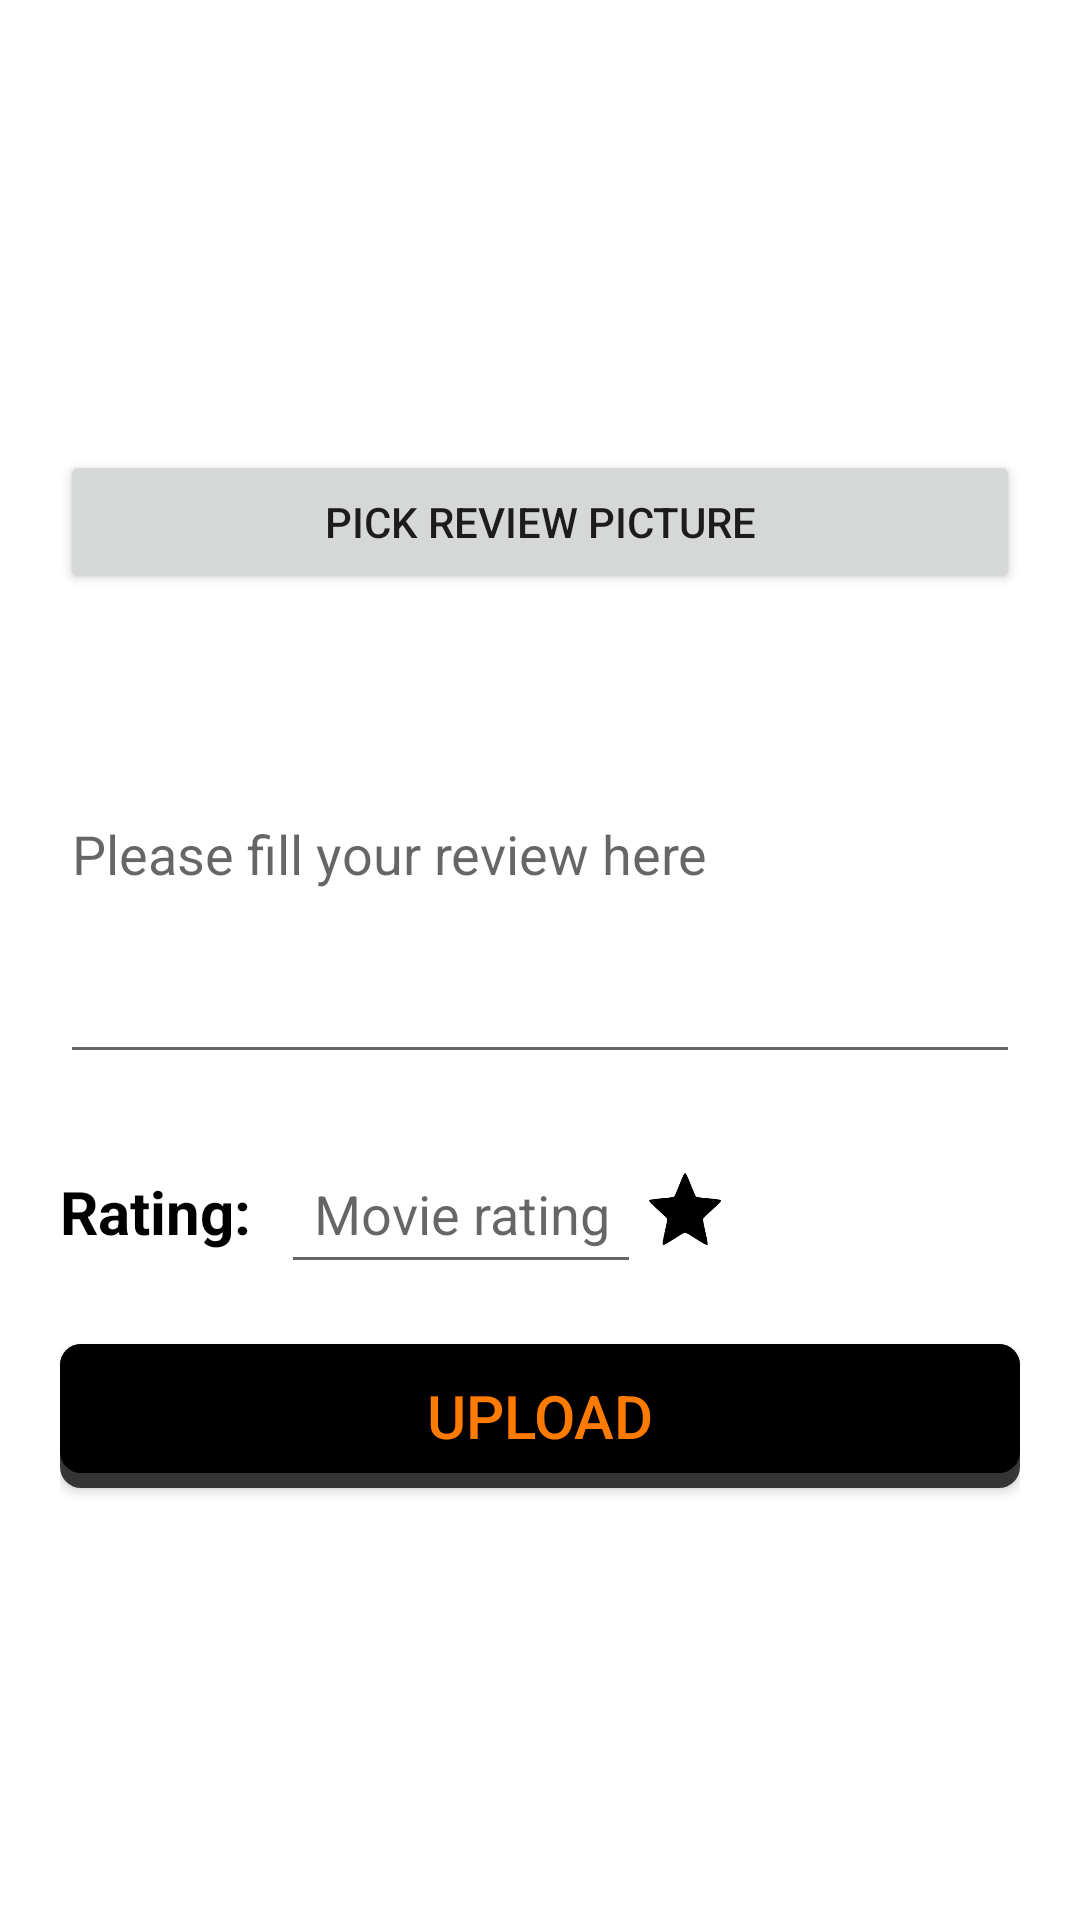

Icons on this 1080×1920 Android screen, each with its box as (x1, y1, x2, y2):
star: (649, 1173, 721, 1245)
